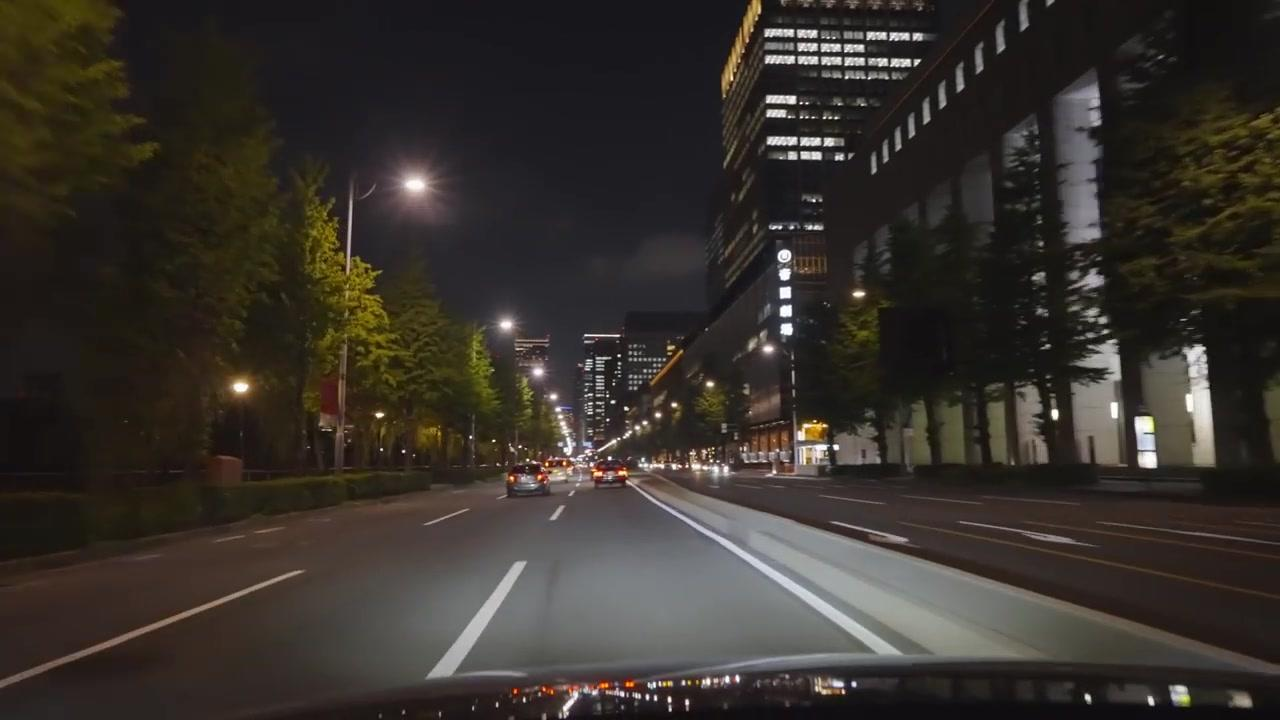car: (505, 463, 550, 496), (592, 456, 630, 486)
